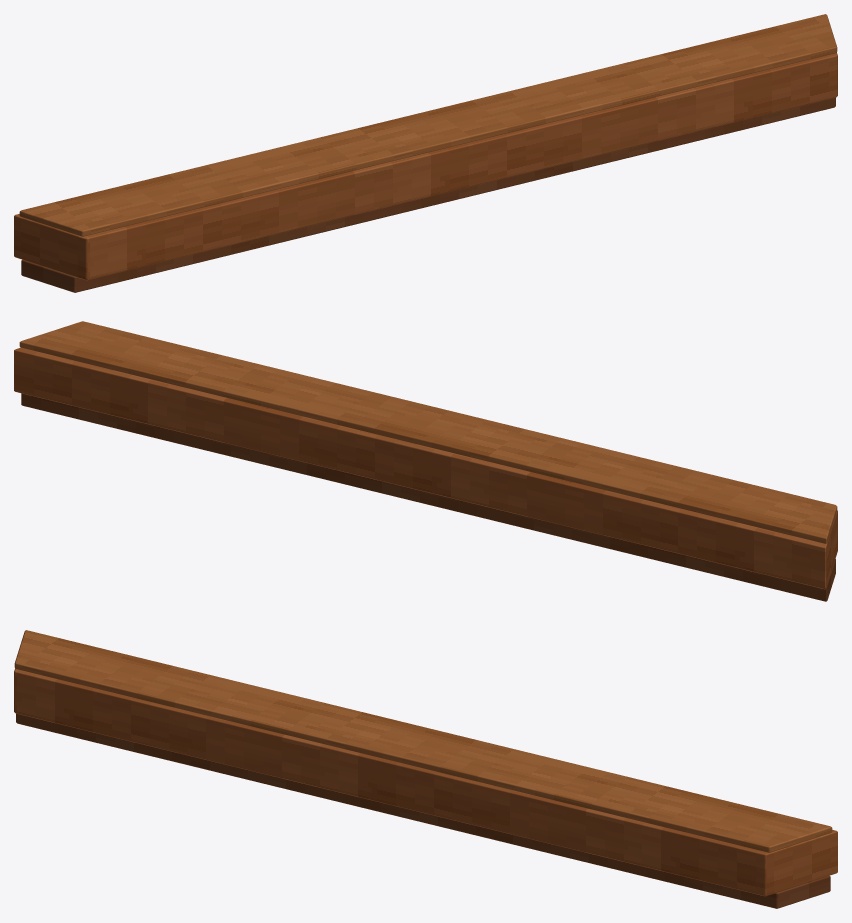
The model's file is Coping-4.glb.
3 renders of one model, top to bottom at view 1: azimuth 30°, elevation 25°; view 2: azimuth 150°, elevation 25°; view 3: azimuth 330°, elevation 25°, orthographic.
Parts seen in each view (by area): view 1: Coping-4; view 2: Coping-4; view 3: Coping-4.
Boxes of the visible parts, box(x1,y1,x2,y2) form: Coping-4: box(14, 14, 837, 292); Coping-4: box(14, 321, 837, 601); Coping-4: box(14, 630, 837, 908).
Bounding box in the file's own units: 3.35 × 0.257 × 0.306.
3 materials, 3 textured.
